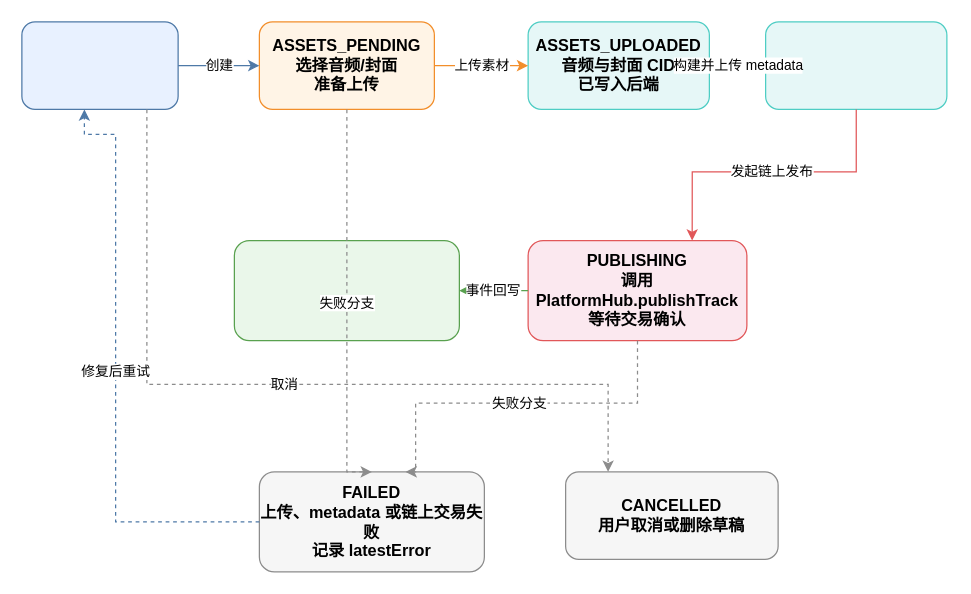
Some shapes in this 971 by 594 pixel diagram are drawn without their labels. Each missing label, with the box of its shape:
DRAFT 创建草稿 编辑作品信息: (21, 21, 178, 109)
METADATA_UPLOADED metadata JSON CID 已写入发行记录: (764, 21, 947, 109)
PUBLISHED 解析 TrackPublished 回写 tokenId / splitter / txHash: (233, 239, 459, 341)
